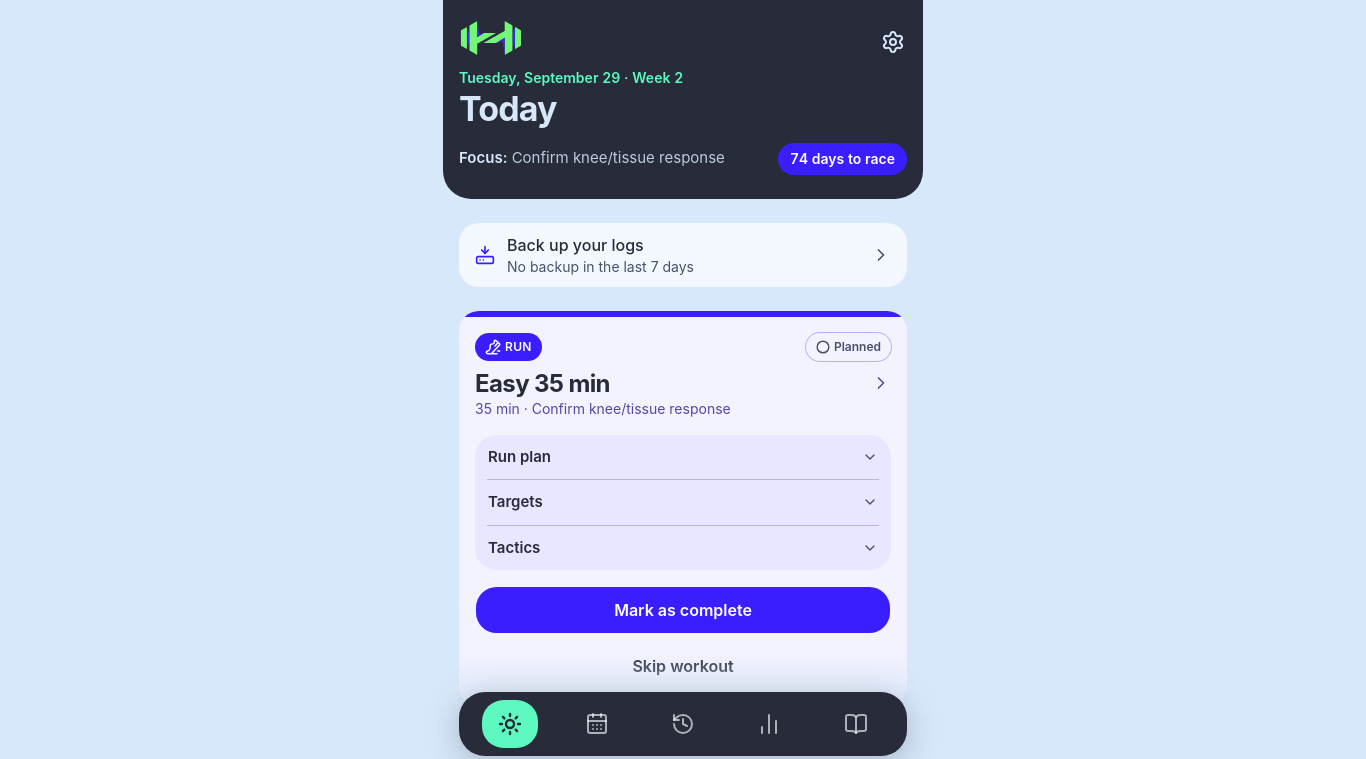
Test: Today › skips with a required reason and can undo the skip
Click the button "Skip workout": (683, 666) [475,642,891,690]
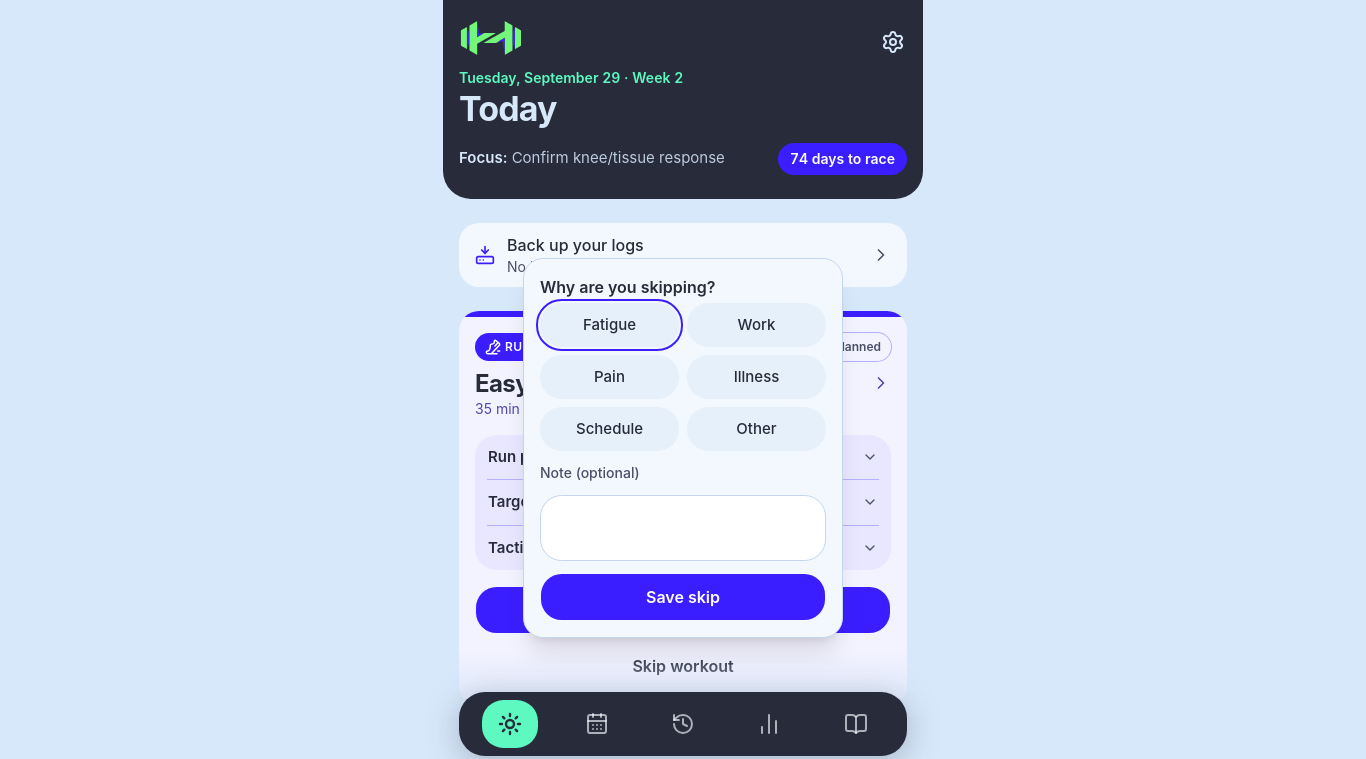
Click the button "Save skip": (683, 597) [540,573,826,621]
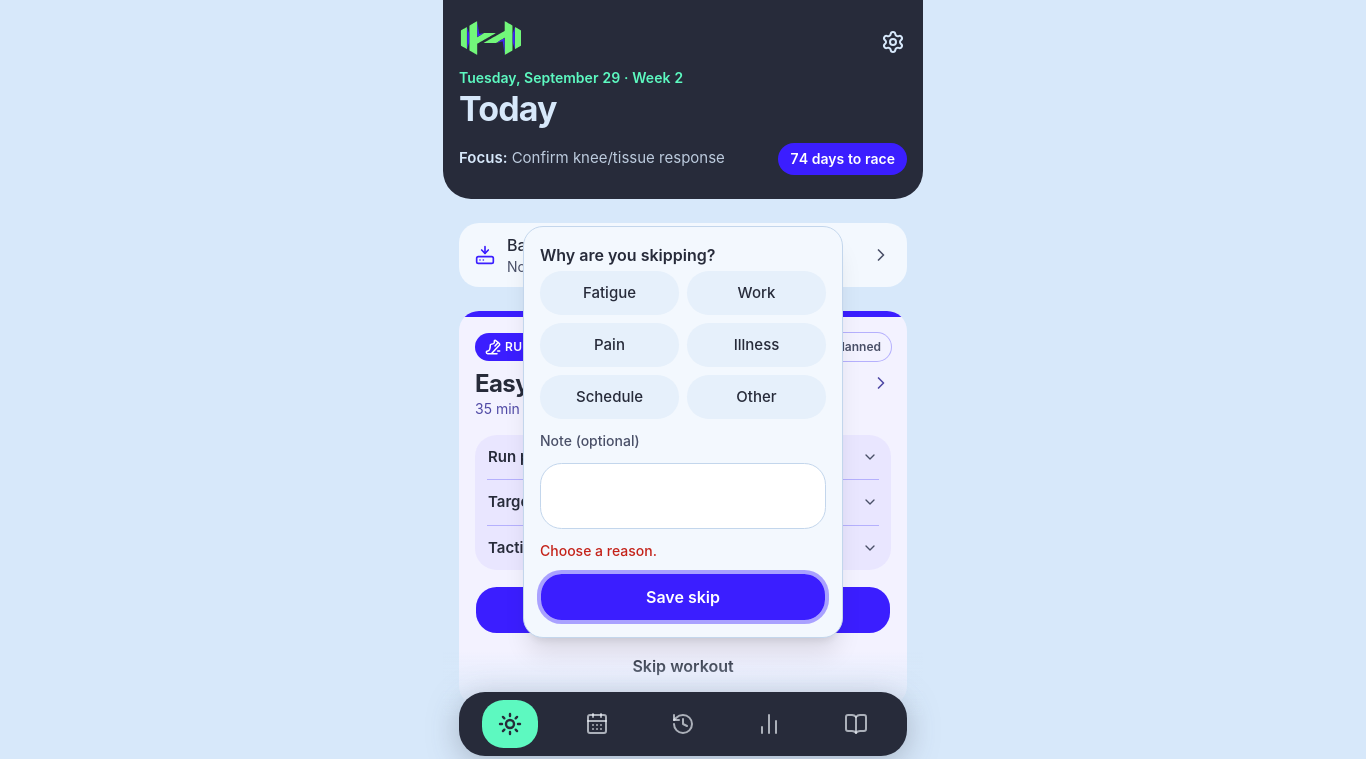
Now the message reads "Choose a reason.", box [540,542,657,559]
Click the button "Work": (756, 293) [687,271,826,315]
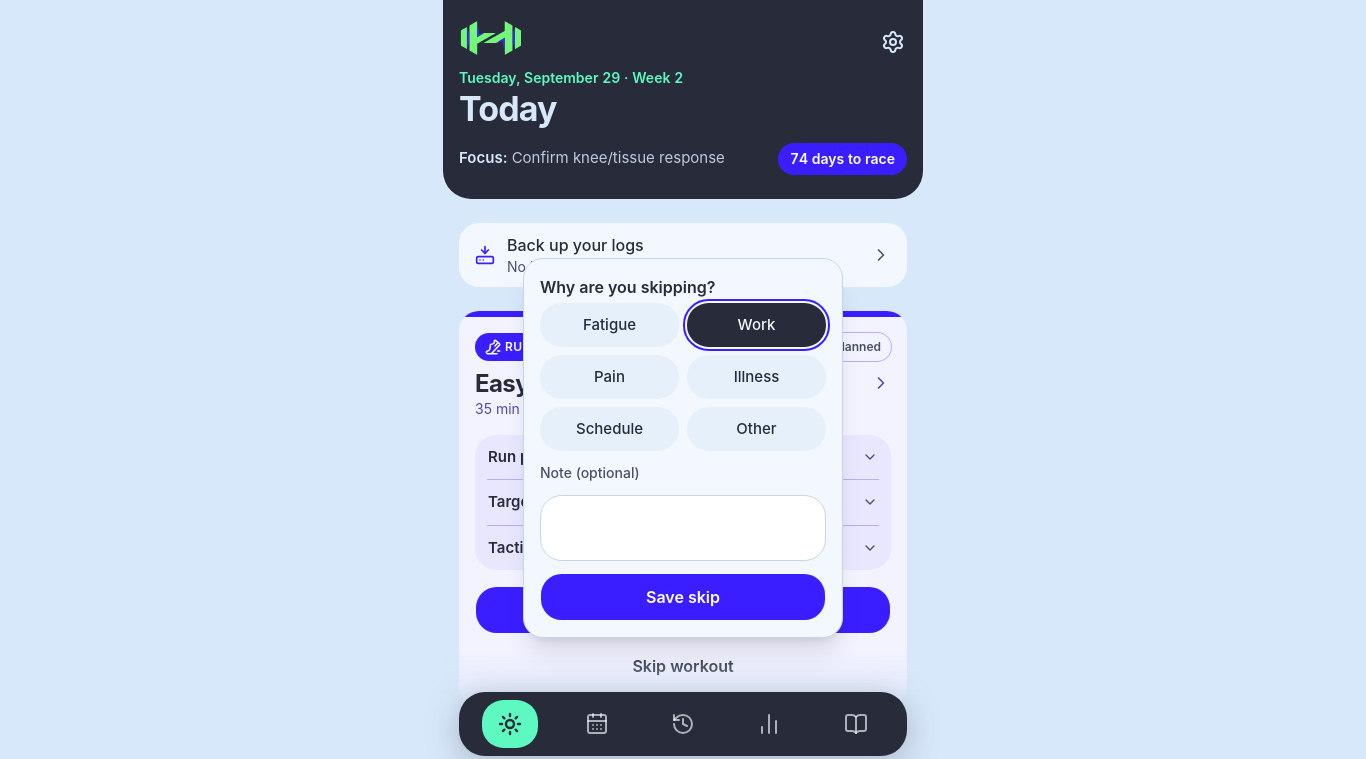
Click the button "Save skip": (683, 597) [540,573,826,621]
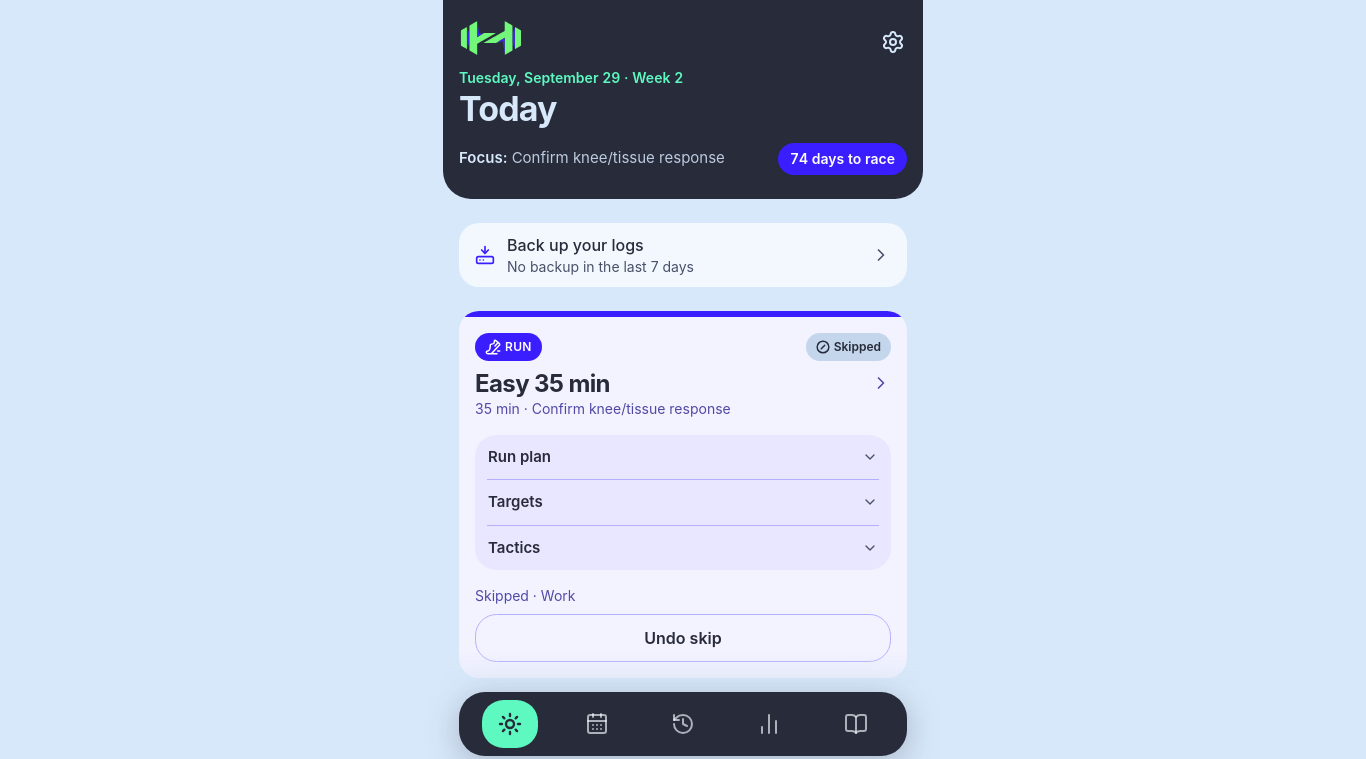
Now the text "Skipped · Work" is shown, box [475,587,576,604]
Now the text "Skipped" is shown, box [806,332,891,360]
Click the button "Undo skip": (683, 638) [475,614,891,662]
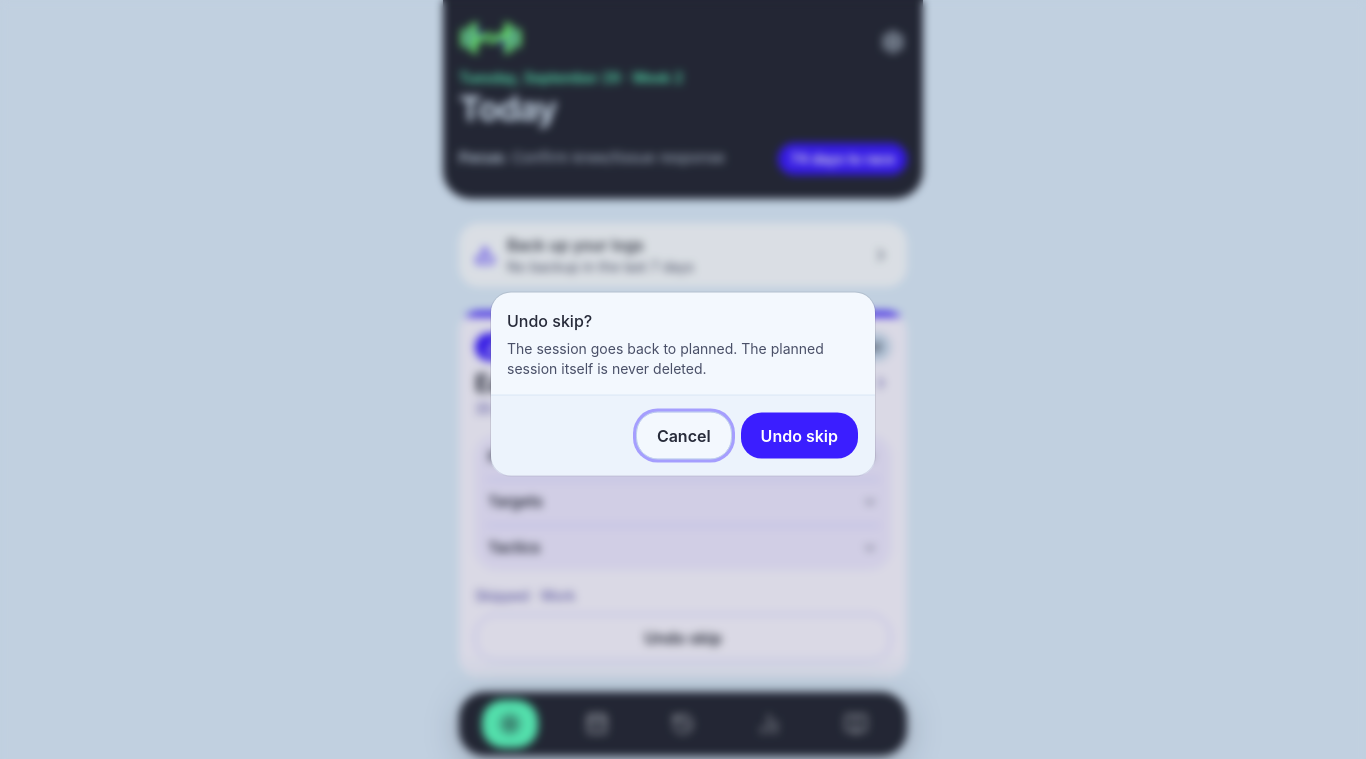
Click the button "Undo skip": (799, 436) [740,412,859,460]
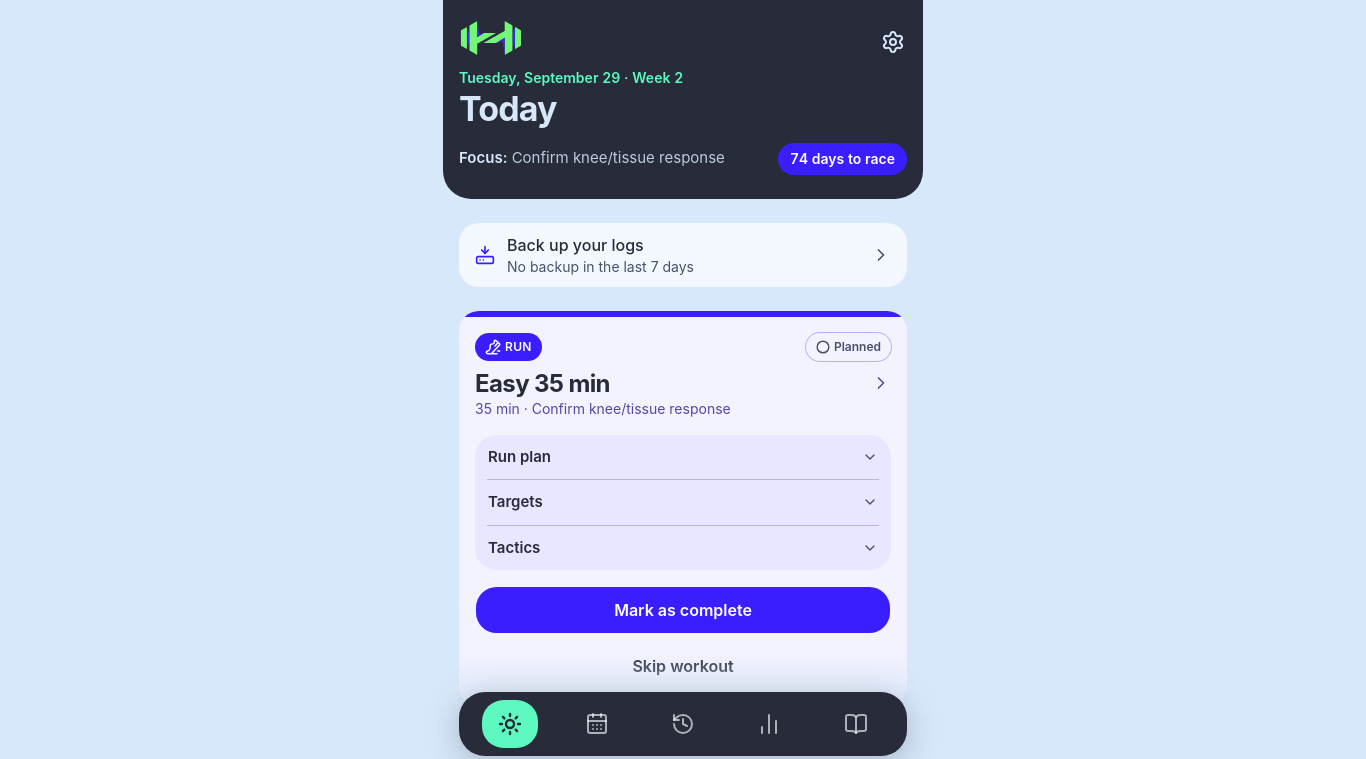
Now the 1st text "Planned" is shown, box [806,332,891,360]
